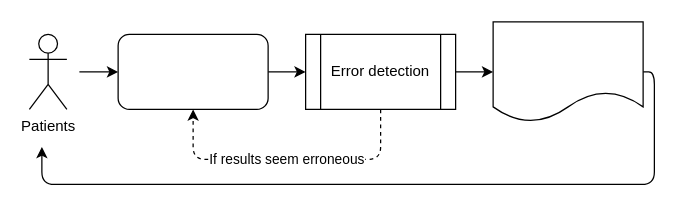
Some shapes in this 686 by 216 pixel diagram are drawn without their labels. The centre of each missing label's shape, as x and y in pixels:
Lab: point 192,71
Results: point 567,71
